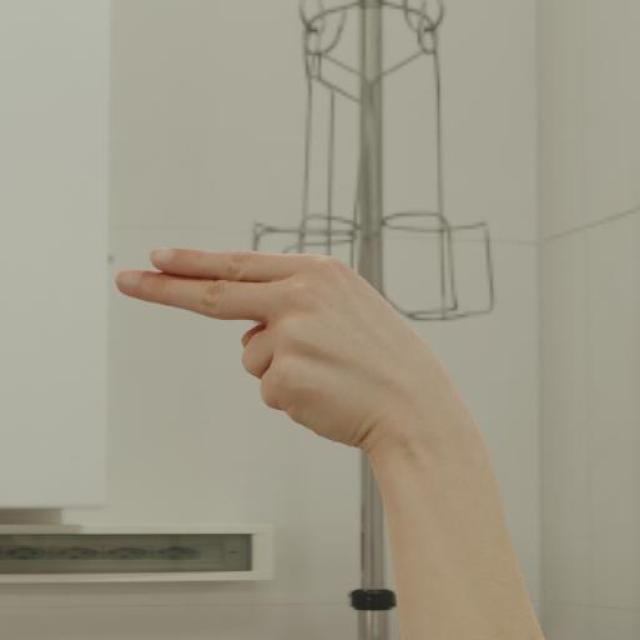H: (116, 246, 440, 445)
